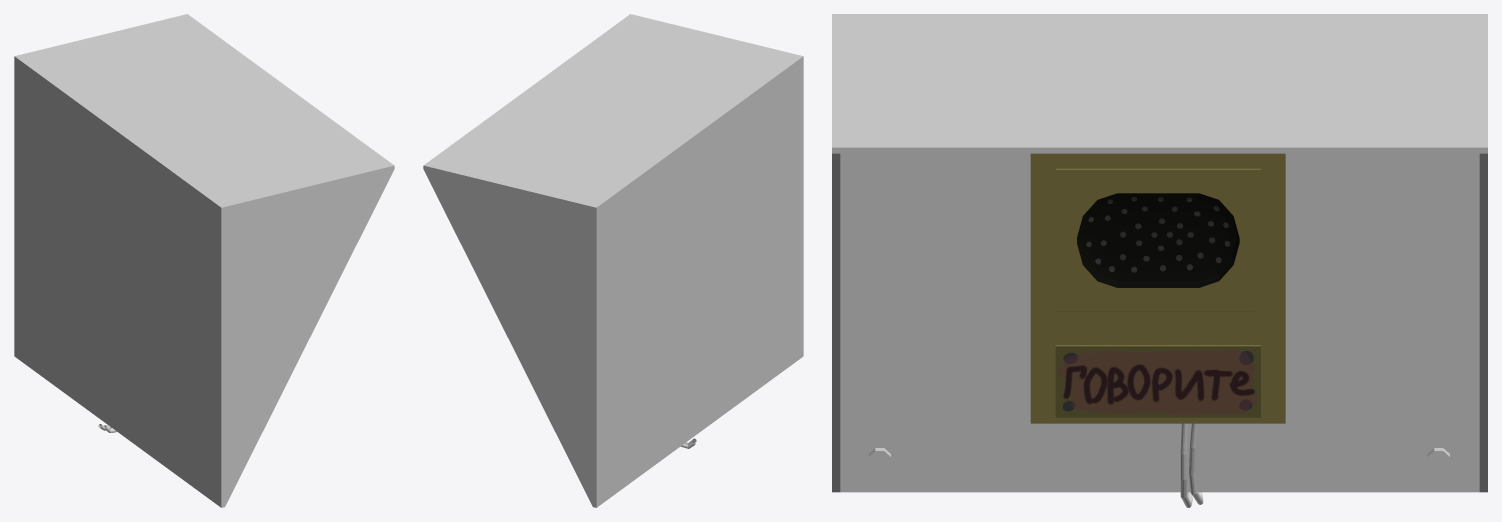
The model's file is Intercom.fbx.
3 views of the same model, side by side, from view 1: azimuth 30°, elevation 25°; view 2: azimuth 150°, elevation 25°; view 3: azimuth 270°, elevation 25° (orthographic). The views are drawn at different scales.
Parts seen in each view (by area): view 1: Cube; view 2: Cube; view 3: Cube, Cube.001.
Part boxes in pixels (box(x1,y1,x2,y2)): Cube: box(14, 14, 394, 507); Cube: box(423, 14, 803, 507); Cube: box(832, 14, 1487, 492); Cube.001: box(1030, 153, 1285, 423).
Size of the model in its own units: 101 by 164 by 200.
